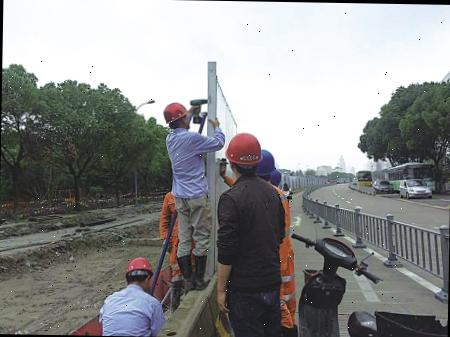helmet: (226, 132, 264, 168), (124, 255, 152, 275), (162, 101, 186, 122)
no_wear: (220, 185, 280, 296)
wear: (166, 129, 205, 194), (102, 290, 158, 335)
